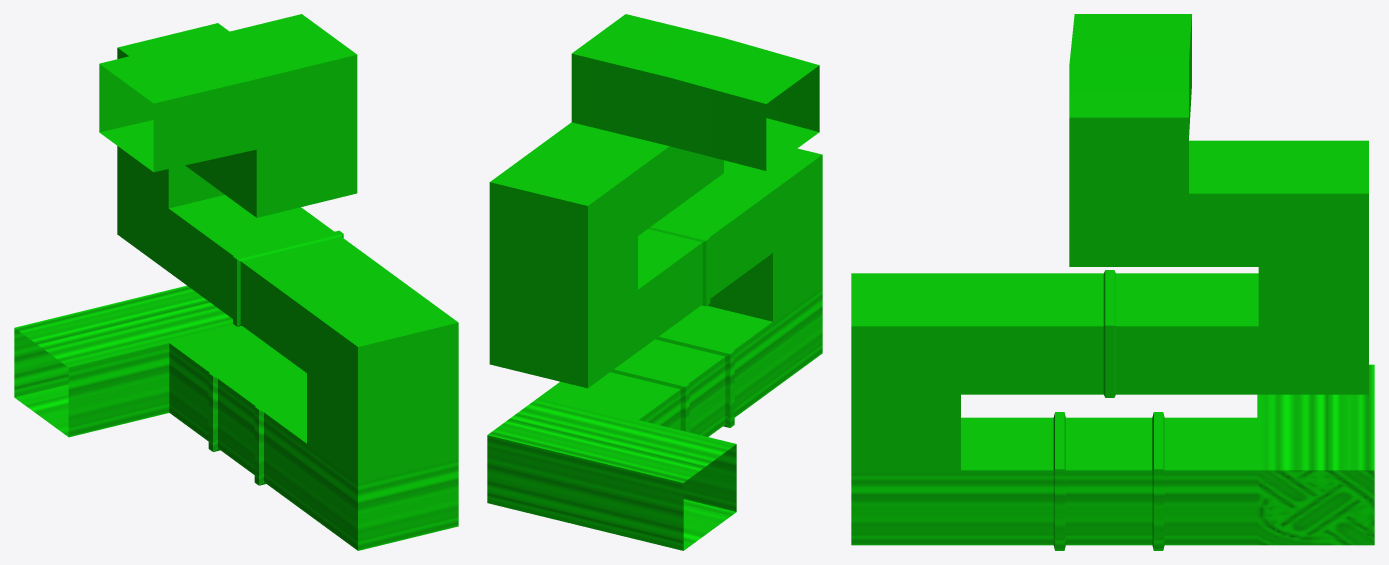
The model's file is 응접실 드레스룸 비밀통로.fbx.
The picture shows the model from 3 angles, left to right: view 1: azimuth 30°, elevation 25°; view 2: azimuth 150°, elevation 25°; view 3: azimuth 270°, elevation 25°; orthographic projection. The views are drawn at different scales.
Visible parts, largest first — view 1: 응접실->드레스룸 비밀통로; view 2: 응접실->드레스룸 비밀통로; view 3: 응접실->드레스룸 비밀통로.
Part boxes in pixels (x1,y1,x2,y2): 응접실->드레스룸 비밀통로: (14,14,458,550); 응접실->드레스룸 비밀통로: (487,14,822,550); 응접실->드레스룸 비밀통로: (851,14,1374,550).
Size of the model in its own units: 131 by 244 by 269.
